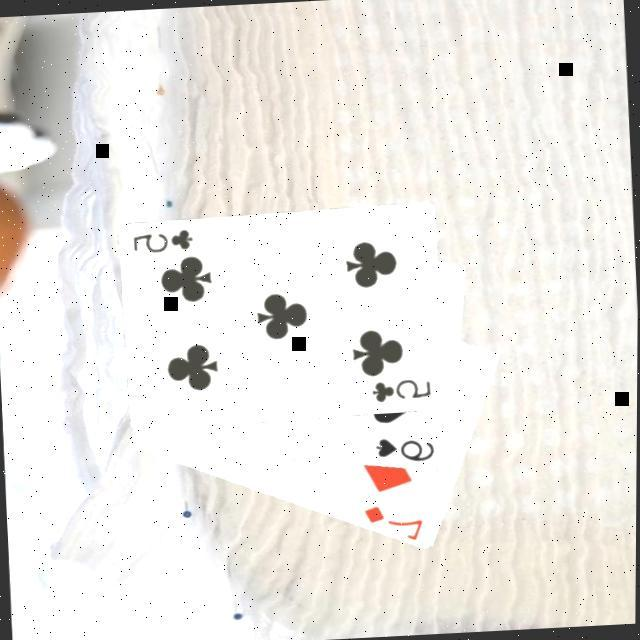5C: (128, 227, 196, 258), (368, 377, 433, 408)
6S: (370, 434, 437, 468)
7D: (358, 502, 426, 544)
